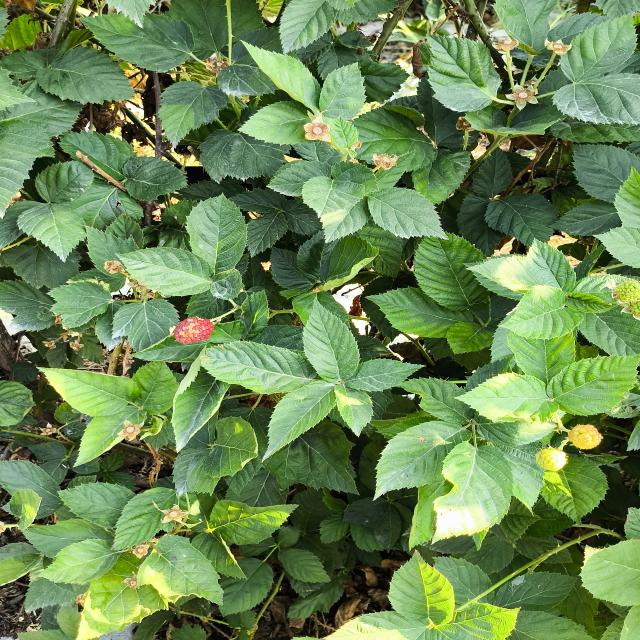naranja: (173, 317, 215, 344)
verde: (568, 424, 603, 449), (535, 447, 568, 471), (614, 281, 640, 302)
